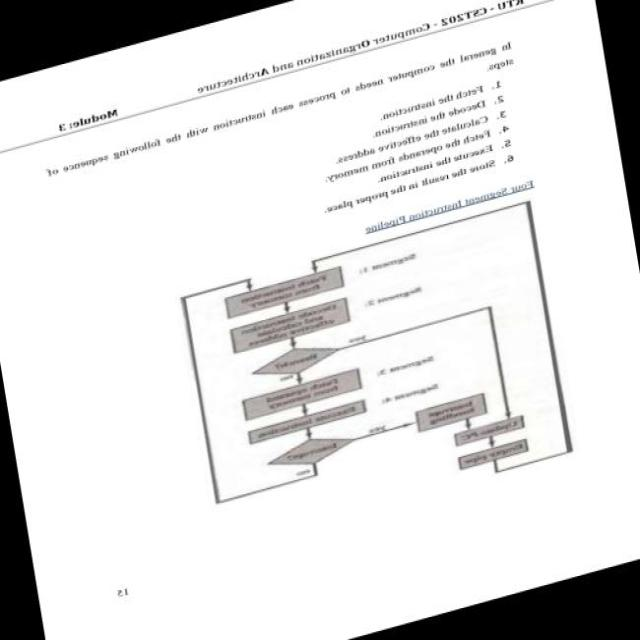Figure Detection - v3 Dataset Version2: (154, 190, 581, 563)
